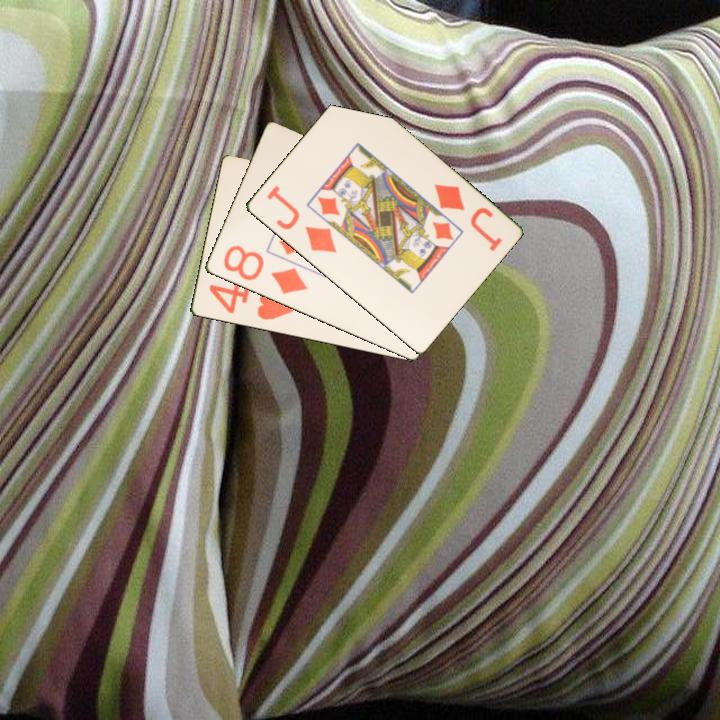4h: (205, 281, 296, 323)
8d: (219, 242, 310, 297)
Jd: (430, 180, 505, 255), (263, 182, 339, 256)
